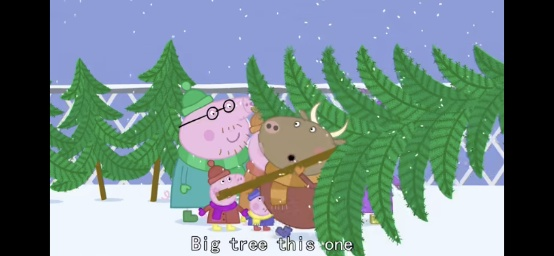Peppa: (198, 160, 244, 234)
